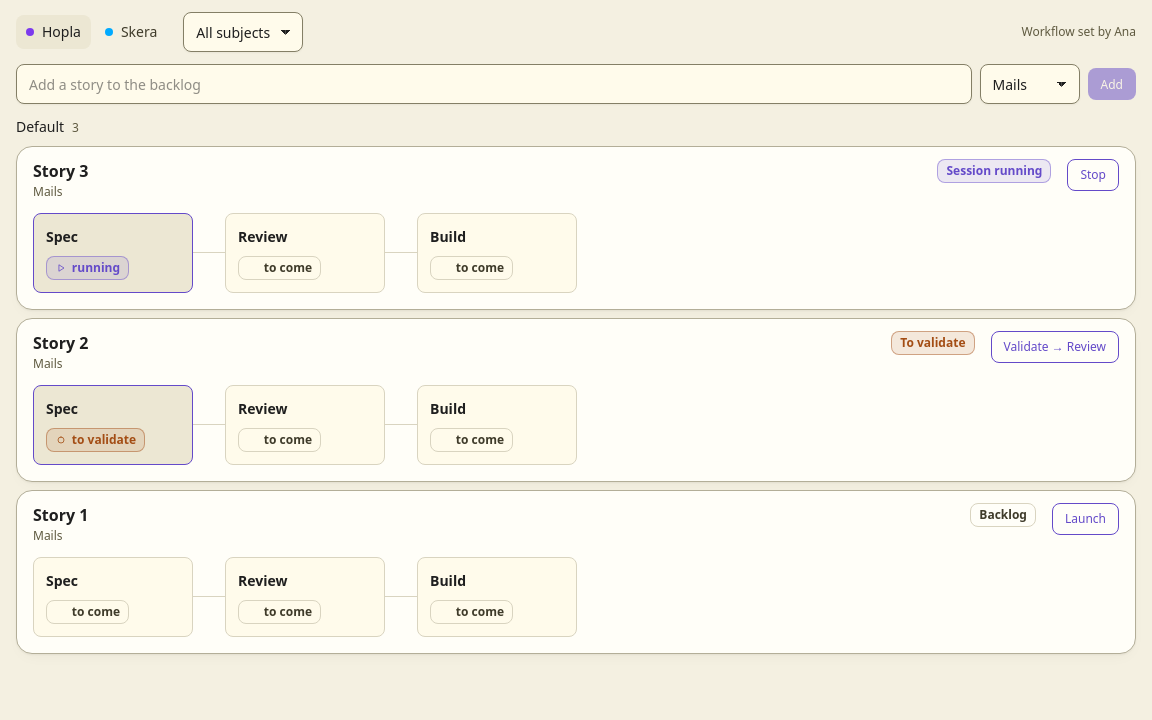
Test case: the card drawer › closes on Escape
The width and height of the screenshot is (1152, 720).
Click the button "Story 2" at (61, 343), box [33,331,88,355]
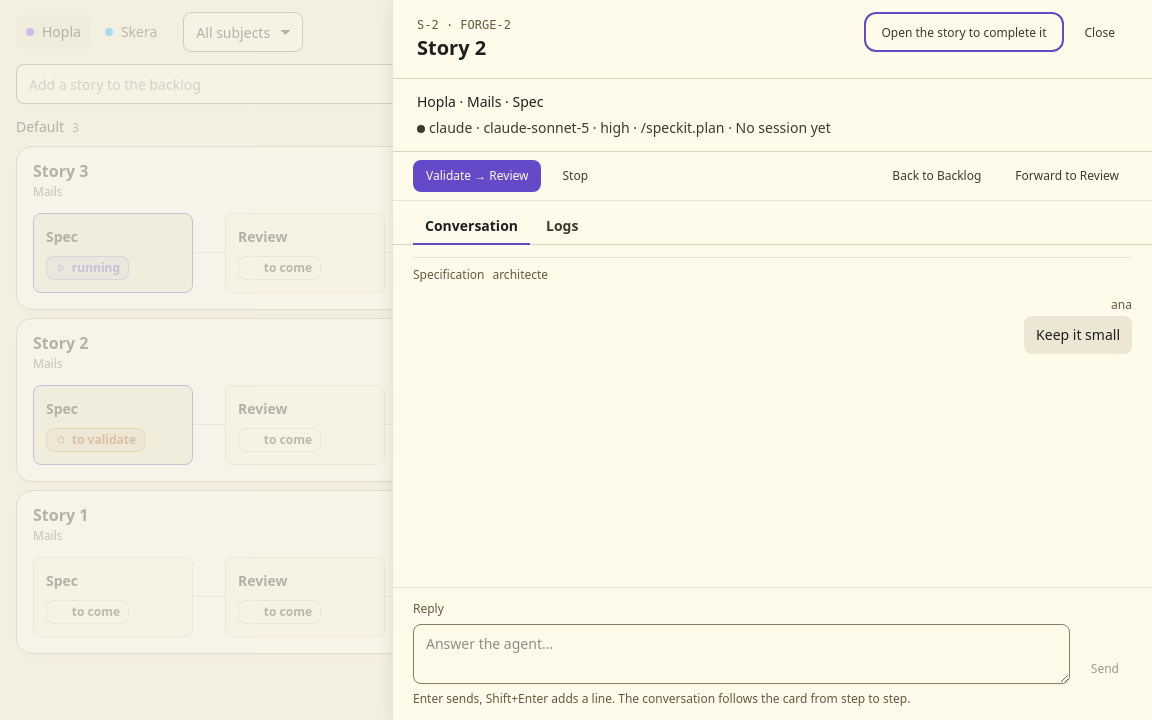
Press Escape in the dialog with test id "forge-drawer"
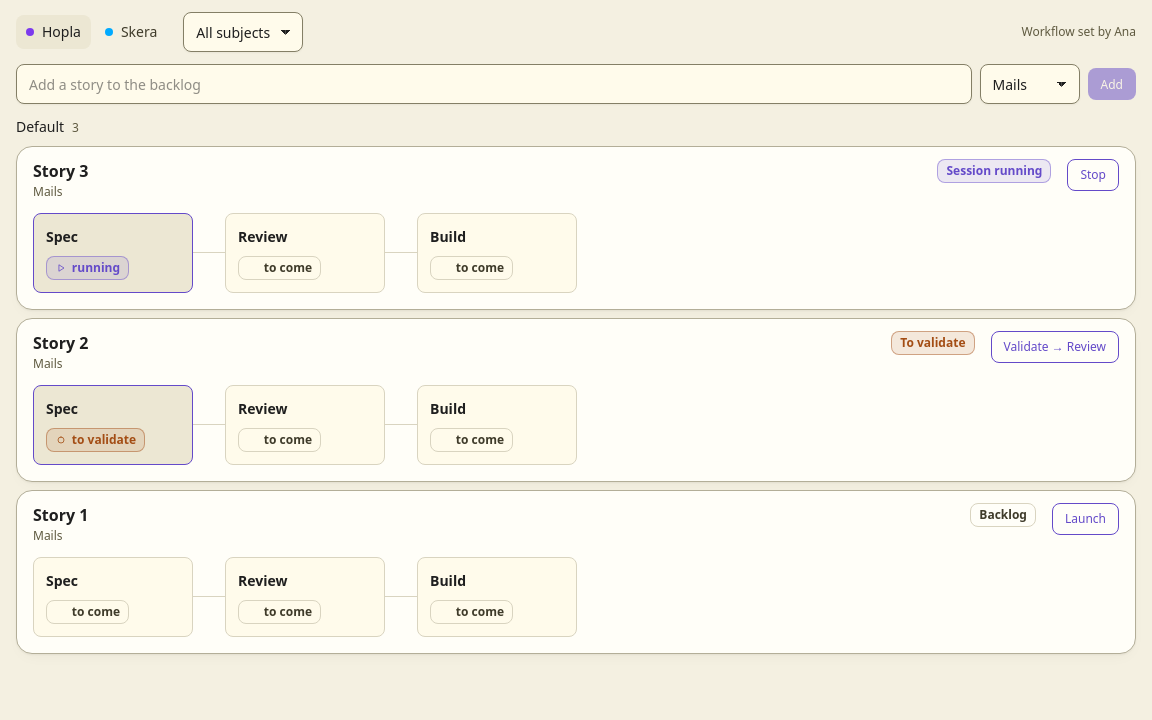
Expected: the dialog with test id "forge-drawer" is gone
